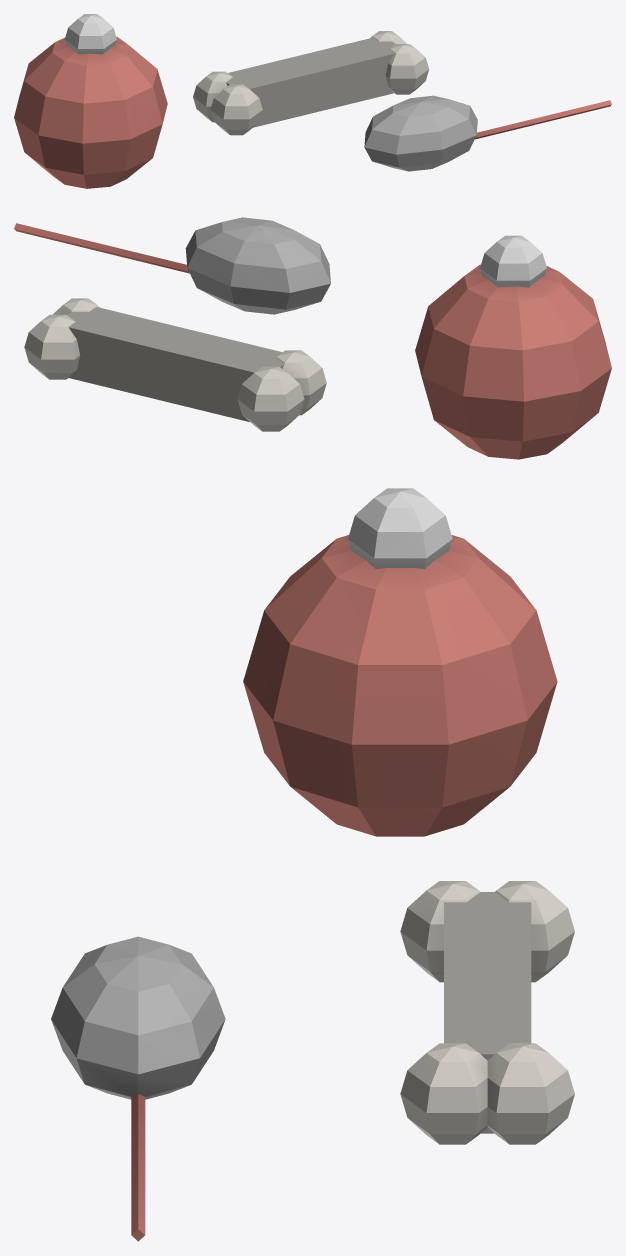
Rendered from petshop_toys.glb.
3 views of the same model, one above another, from view 1: azimuth 30°, elevation 25°; view 2: azimuth 150°, elevation 25°; view 3: azimuth 270°, elevation 25° (orthographic). The views are drawn at different scales.
Bounding box in the file's own units: 0.6856 × 0.21 × 0.3.
